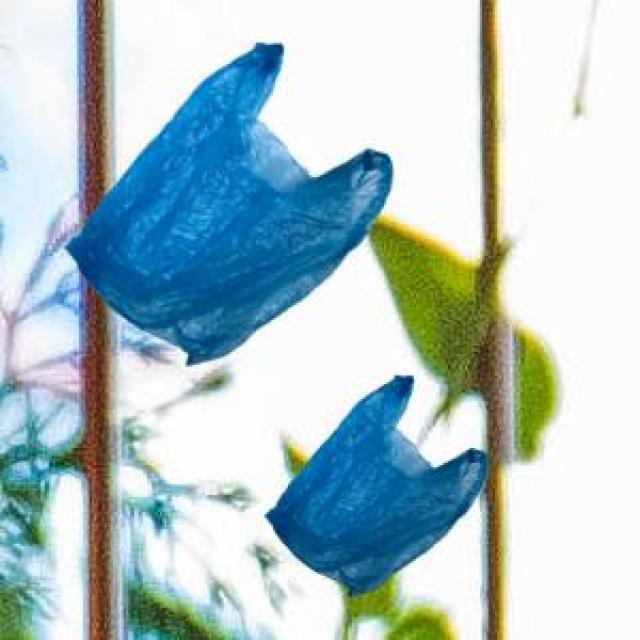Plastic_Bag: (62, 39, 390, 362), (264, 372, 486, 594)
